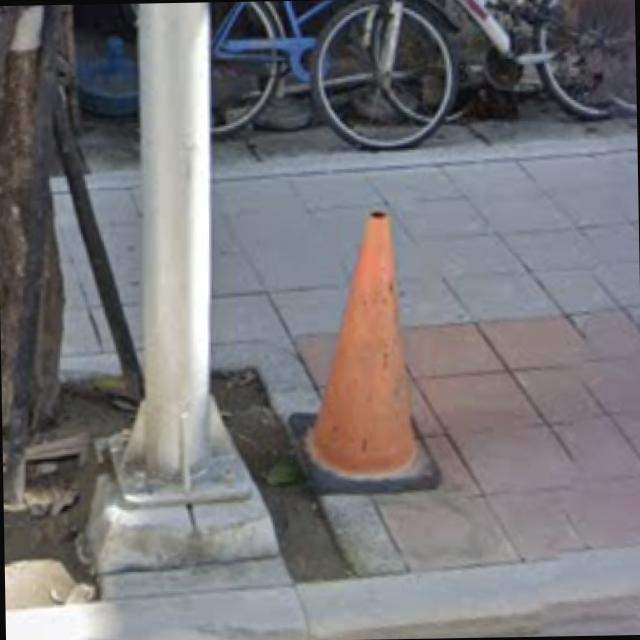cone: (300, 207, 431, 488)
